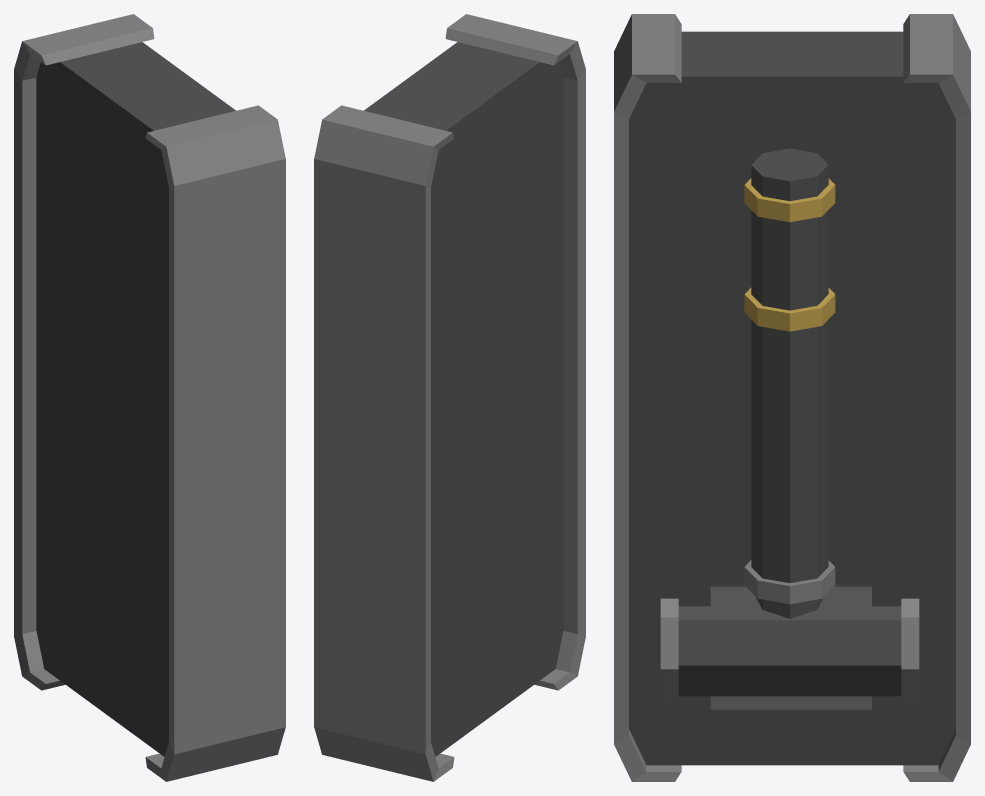
Rendered from Levier.fbx.
The picture shows the model from 3 angles, left to right: view 1: azimuth 30°, elevation 25°; view 2: azimuth 150°, elevation 25°; view 3: azimuth 270°, elevation 25°; orthographic projection. The views are drawn at different scales.
Parts seen in each view (by area): view 1: Boitier; view 2: Boitier; view 3: Boitier, Levier.
Part boxes in pixels (left/top/right/bottom): Boitier: left=14, top=14, right=285, bottom=781; Boitier: left=314, top=14, right=585, bottom=781; Boitier: left=614, top=14, right=970, bottom=781; Levier: left=678, top=148, right=901, bottom=696.
Bounding box in the file's own units: 16.55 × 76.26 × 34.86.
